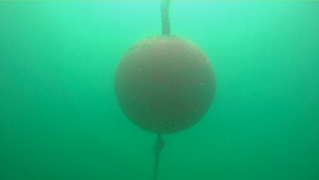bubble: (225, 134, 230, 139), (103, 105, 108, 110), (243, 79, 247, 83)
buoy: (112, 34, 216, 134)
